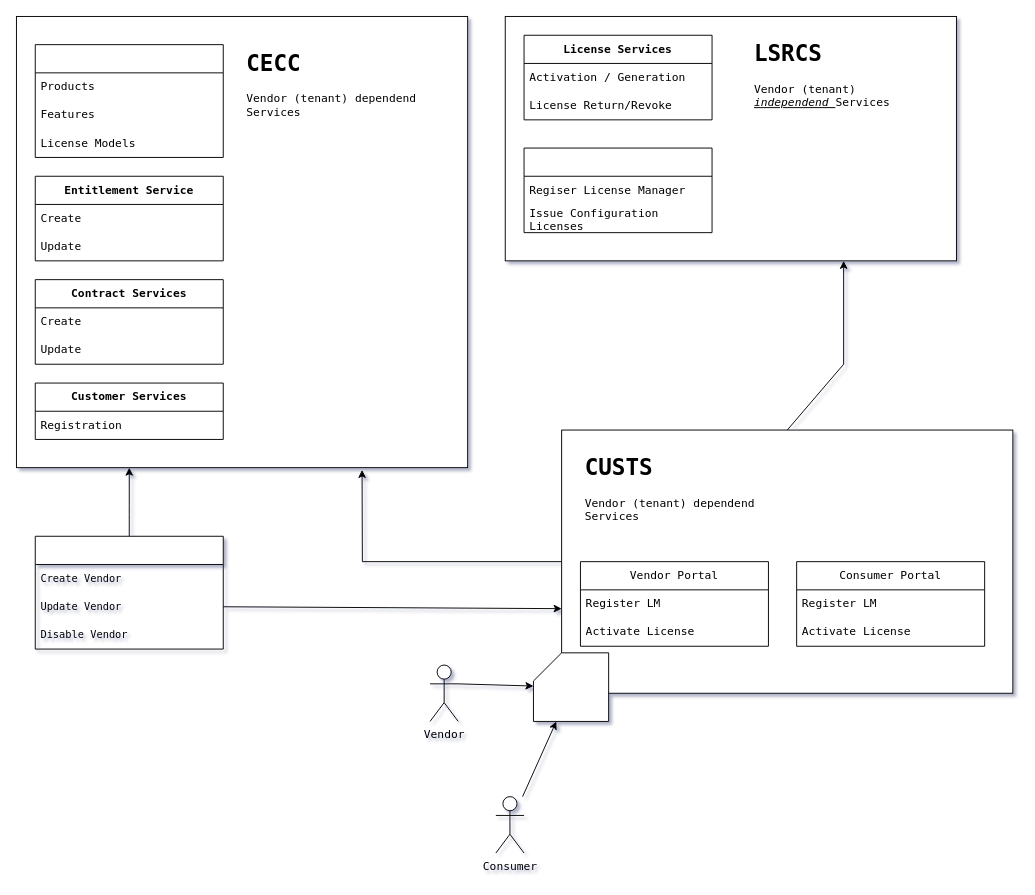
The diagram is 1035 pixels wide and 895 high, and some of its shapes have lost their labels. Each missing label, with the box of its shape:
Catalog Service: (34, 44, 223, 157)
Runtime Configuration Service: (523, 147, 712, 233)
Trusted Licensing 365: (34, 535, 223, 649)
Web UI: (533, 652, 609, 721)
